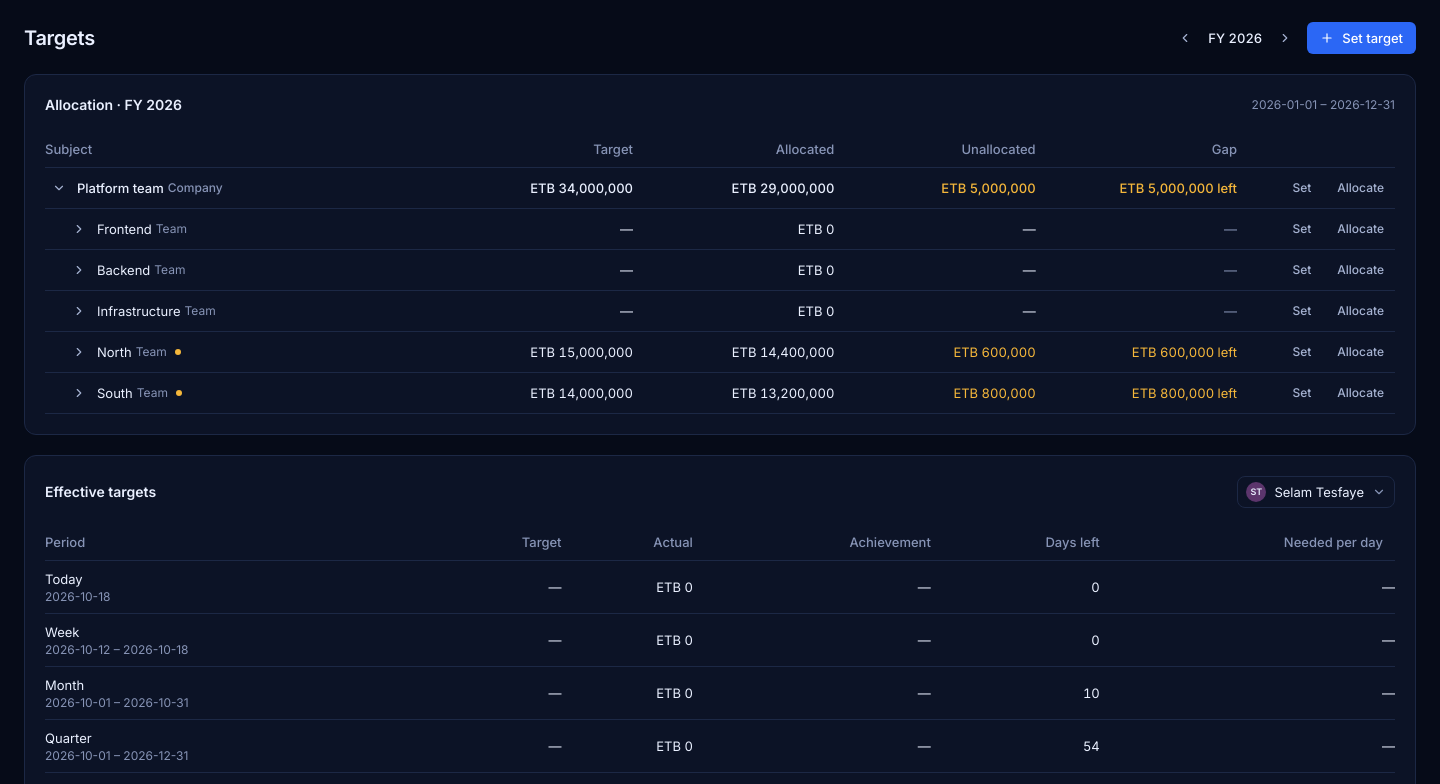
TargetsScreen › shows the allocation tree and a live gap in manual allocation
The width and height of the screenshot is (1440, 784).
Check: the table named "Target allocation" is shown, box [45,131,1395,414]
Check: the heading "Effective targets" is shown, box [45,482,156,502]
Click the button "Allocate " in the row of "company": x=1361, y=188 [1326,174,1395,202]
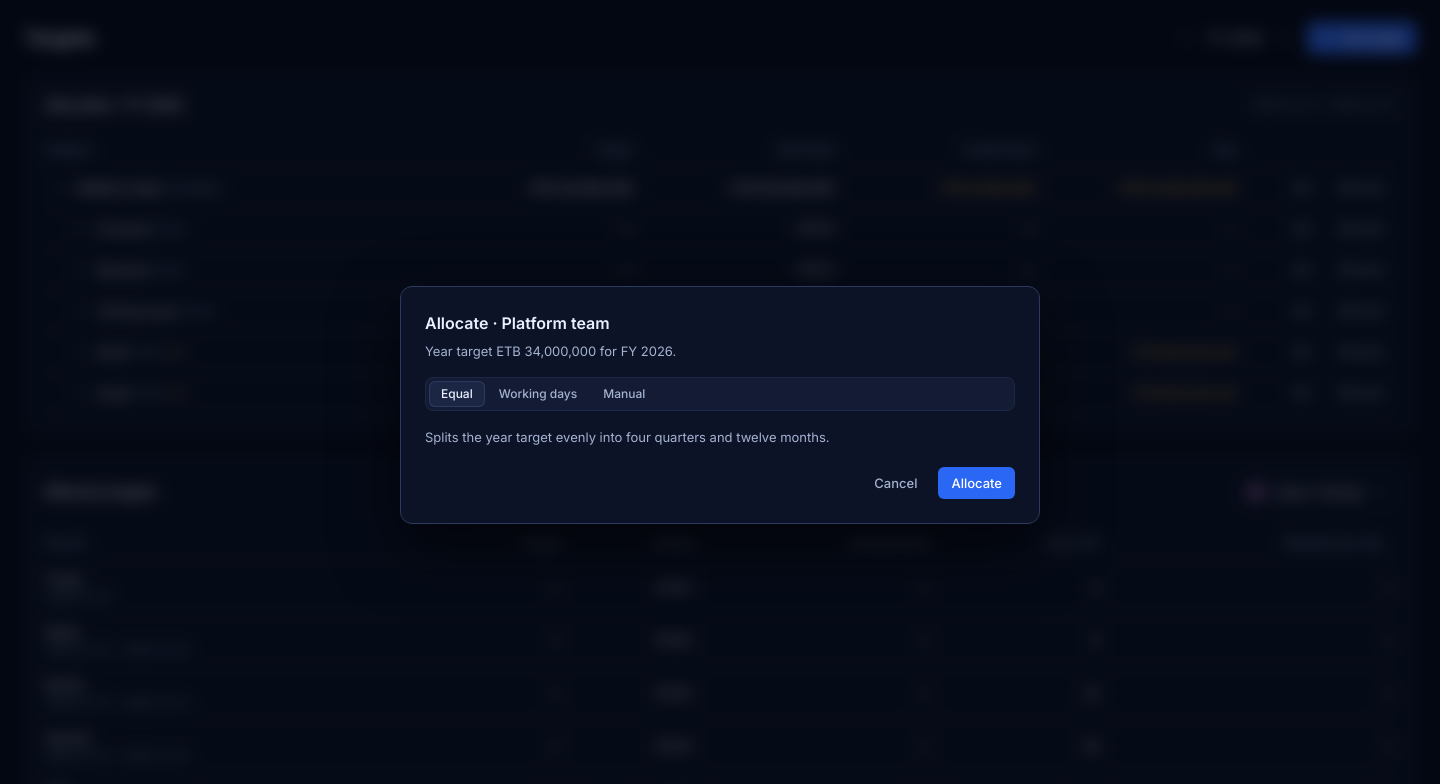
Click the button "Manual": x=624, y=394 [591,381,657,407]
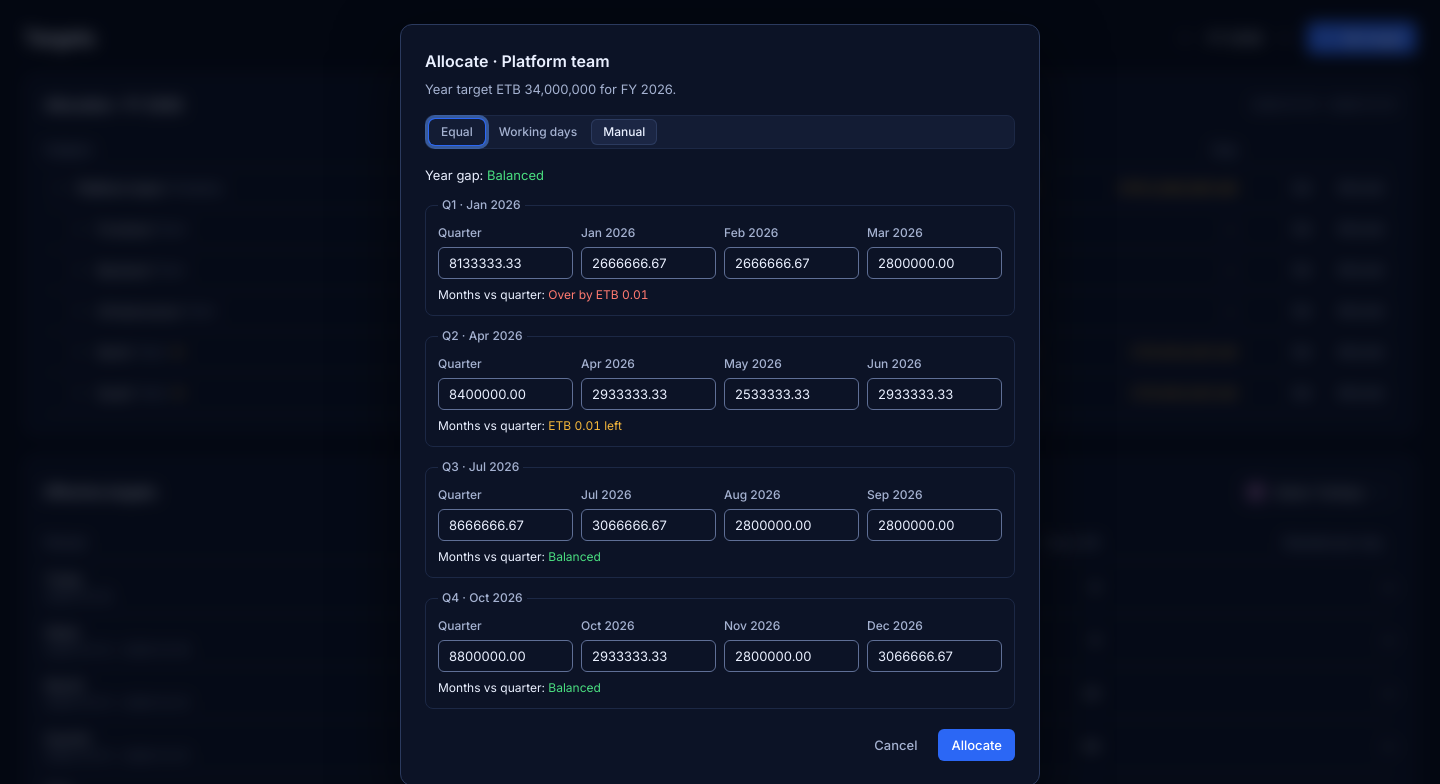
Check: the text "Year gap: Balanced" is shown, box [425,167,544,183]
Replace the text in the field labelled "Quarter" below "Feb 2026" with "0": x=506, y=263 [438,247,573,279]
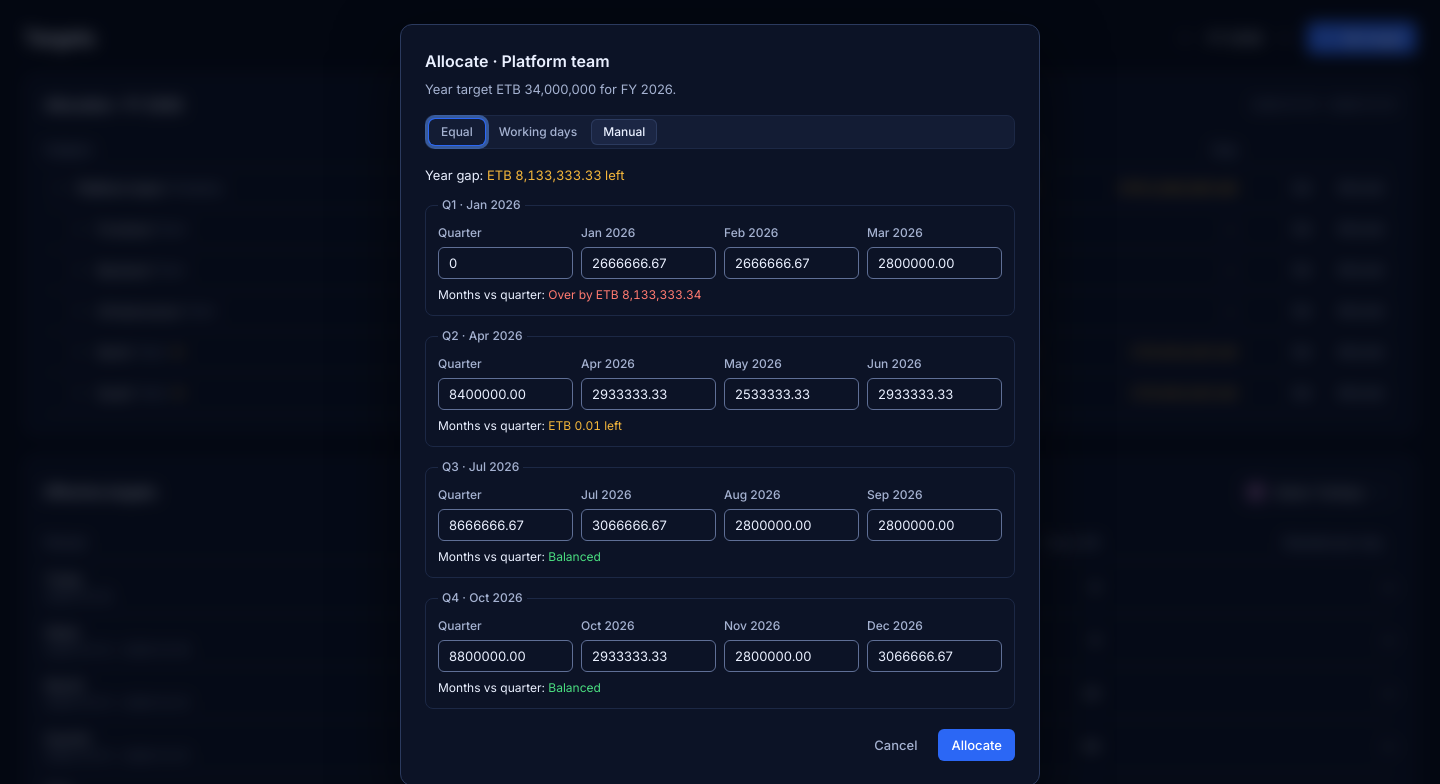
Check: the text "Year gap: ETB 8,133,333.33 left" is shown, box [425,167,624,183]
Replace the text in the field labelled "Quarter" below "Feb 2026" with "999999999": x=506, y=263 [438,247,573,279]
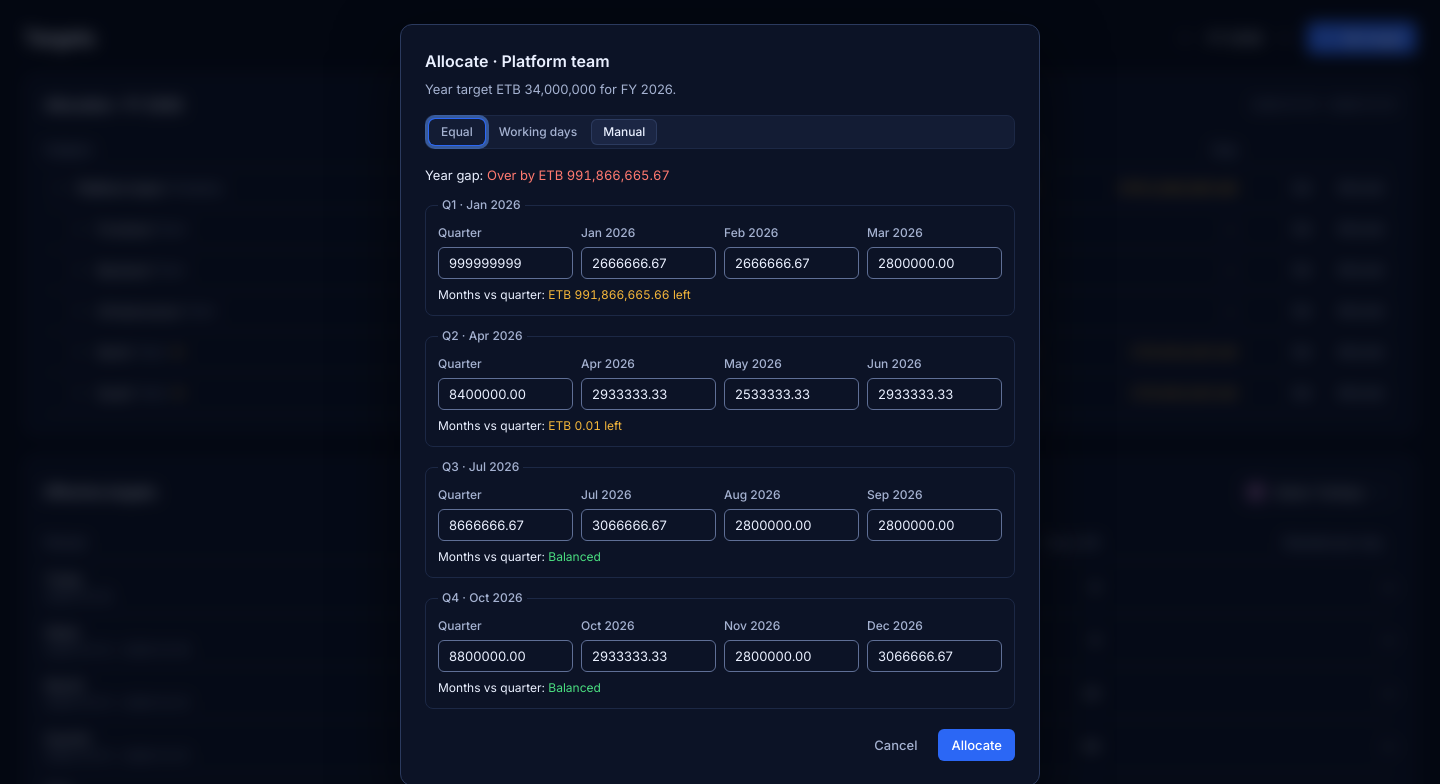
Check: the text "Year gap: Over by ETB 991,866,665.67" is shown, box [425,167,670,183]
